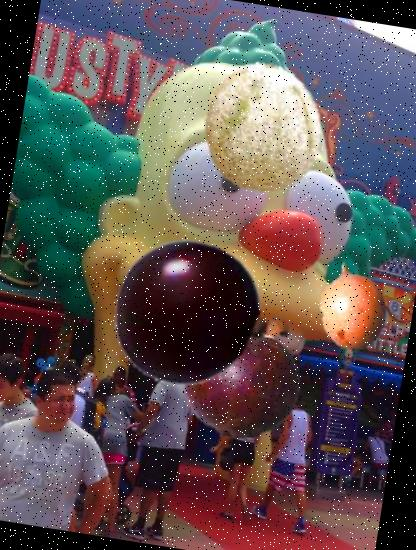Cantaloupe: (186, 52, 339, 205)
Cherry: (100, 227, 272, 399)
Granadilla: (302, 254, 404, 356)
Mangostan: (168, 298, 318, 448)
